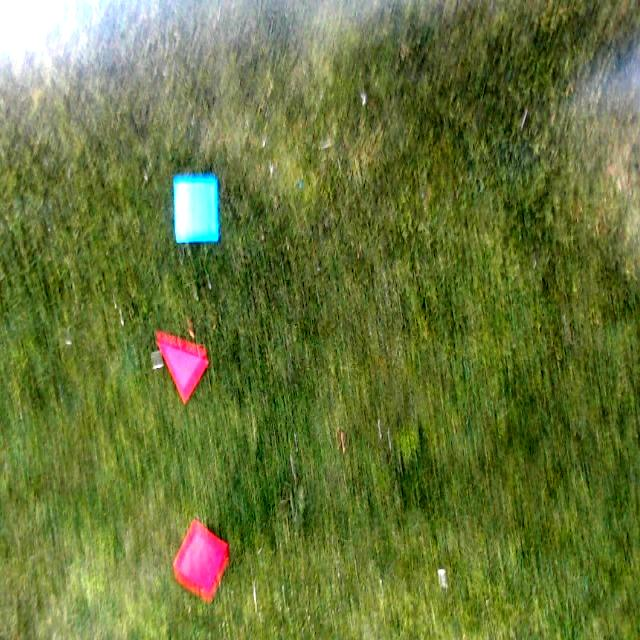red_triangle: (156, 337, 208, 403), (176, 178, 220, 242)
